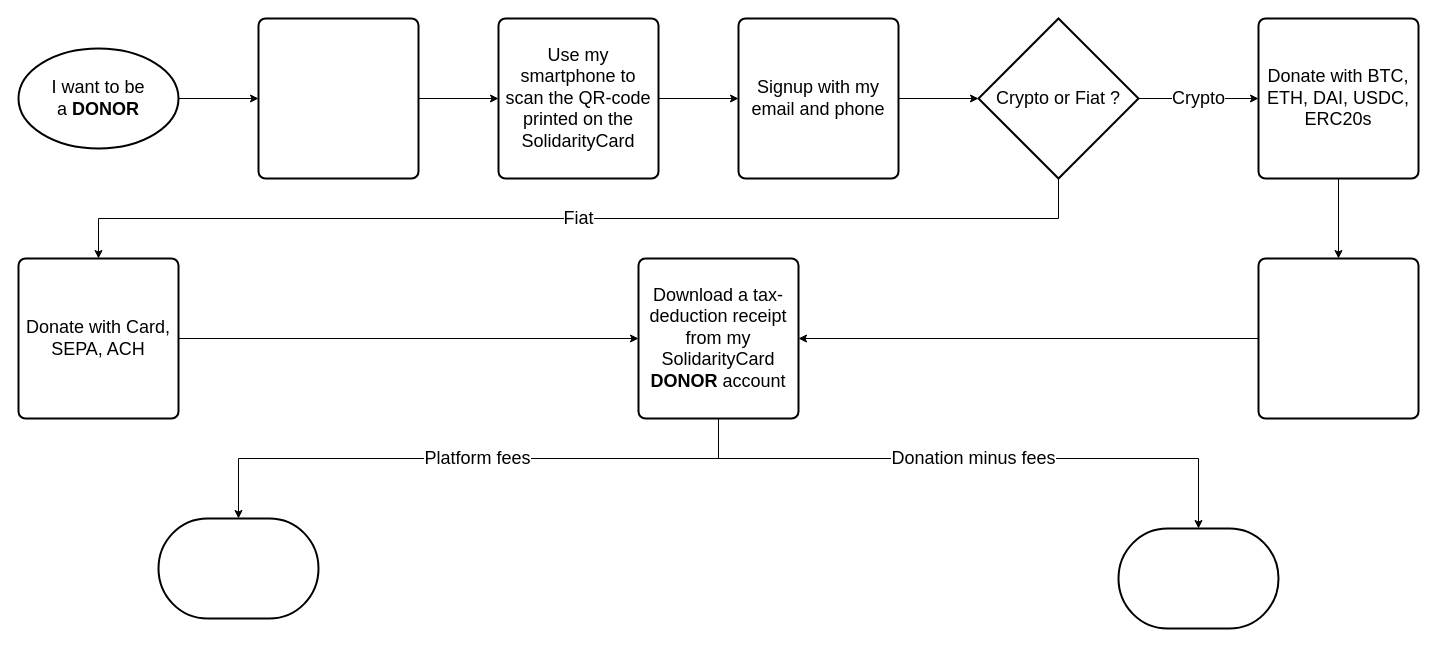
This 1436x646 diagram has some shape labels left out. The centre of each missing label's shape, as x and y in pixels:
BENEFICIARY 's SolidarityCard: the point at 1198,578
Crypto --> Fiat offramp: the point at 1338,338
Go to the street and meet a BENEFICIARY: the point at 338,98
SolidarityDAO DEVELOPMENT FUND: the point at 238,568
